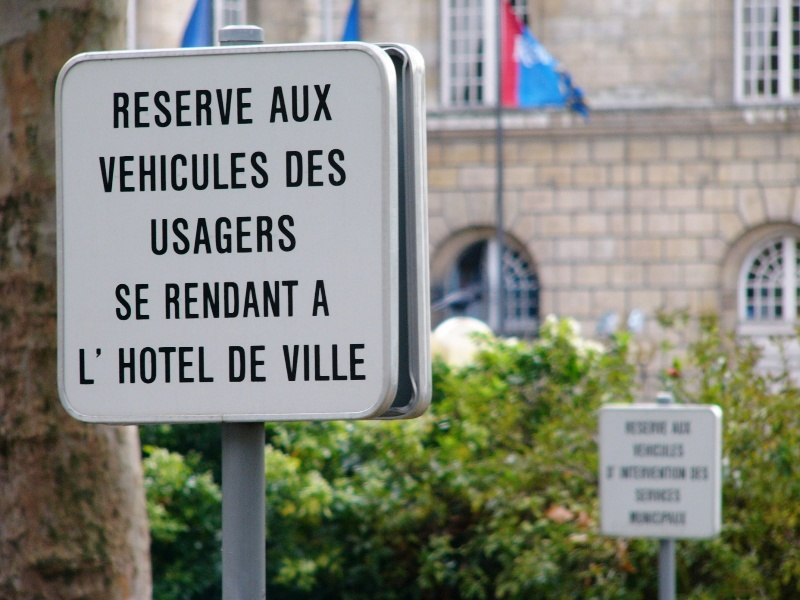text: (113, 87, 128, 130), (129, 87, 144, 130), (145, 87, 160, 130), (161, 87, 176, 130), (177, 87, 192, 130), (193, 87, 208, 130), (209, 87, 224, 130), (225, 87, 240, 130), (113, 151, 128, 193), (129, 151, 144, 193), (145, 151, 160, 193), (161, 151, 176, 193), (177, 151, 192, 193), (193, 151, 208, 193), (209, 151, 224, 193), (225, 151, 240, 193), (241, 151, 256, 193), (273, 83, 288, 124), (289, 83, 304, 124), (305, 83, 320, 124), (161, 215, 176, 256), (177, 215, 192, 256), (193, 215, 208, 256), (209, 215, 224, 256), (225, 215, 240, 256), (241, 215, 256, 256), (257, 215, 272, 256), (273, 215, 288, 256), (177, 280, 192, 320), (193, 280, 208, 320), (209, 280, 224, 320), (225, 280, 240, 320), (241, 280, 256, 320), (257, 280, 272, 320), (273, 280, 288, 320), (98, 151, 112, 193), (289, 149, 304, 188), (305, 149, 320, 188), (321, 149, 336, 188), (129, 346, 144, 385), (145, 346, 160, 385), (161, 346, 176, 385), (177, 346, 192, 385), (193, 346, 208, 385), (289, 343, 304, 382), (305, 343, 320, 382), (321, 343, 336, 382), (337, 343, 352, 382), (129, 283, 144, 321), (81, 348, 96, 386), (241, 345, 256, 383), (241, 87, 254, 130), (257, 151, 270, 193), (353, 343, 367, 382), (321, 83, 334, 124), (116, 283, 128, 321), (228, 345, 240, 383), (165, 280, 176, 320), (337, 149, 348, 188), (289, 280, 299, 320), (321, 279, 331, 317), (257, 345, 267, 383), (151, 215, 160, 256), (119, 346, 128, 385), (311, 279, 320, 317), (289, 215, 297, 256), (673, 420, 688, 434), (641, 443, 656, 457), (657, 443, 672, 457), (641, 489, 656, 503), (657, 489, 672, 503), (641, 512, 656, 526), (657, 512, 672, 526), (673, 512, 688, 526), (209, 346, 214, 385), (283, 343, 288, 382), (145, 283, 150, 321), (97, 348, 102, 386), (673, 443, 686, 457), (625, 422, 640, 434), (641, 422, 656, 434), (625, 467, 640, 479), (641, 467, 656, 479), (657, 467, 672, 479), (673, 467, 687, 479), (691, 468, 704, 480), (629, 512, 640, 526), (631, 443, 640, 457), (657, 422, 667, 434), (673, 489, 681, 503), (286, 149, 288, 188), (609, 467, 615, 479), (635, 489, 640, 503), (620, 467, 624, 479), (271, 83, 272, 124), (79, 348, 80, 386), (705, 468, 708, 480), (606, 467, 608, 479), (689, 420, 690, 434)
